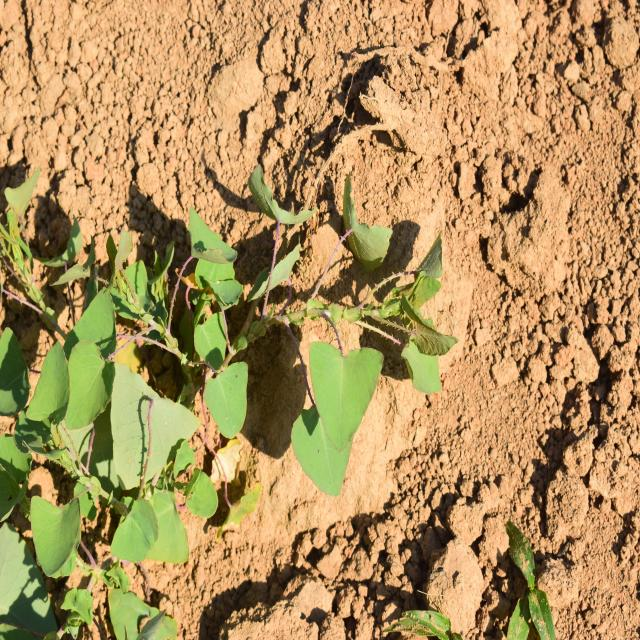Asiatic_Smartweed: (284, 194, 438, 488), (163, 193, 254, 436), (12, 265, 134, 443), (109, 473, 194, 567)
